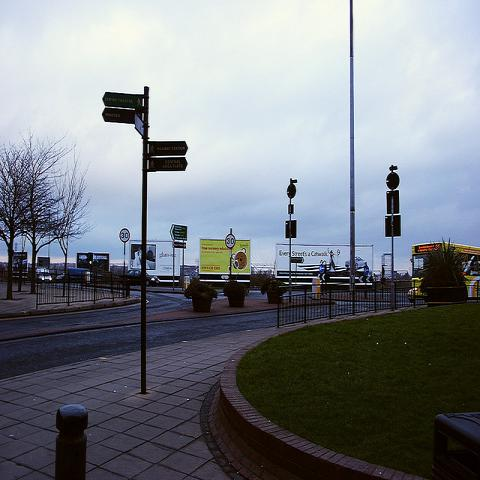bus: (410, 242, 480, 297)
car: (127, 268, 158, 287), (36, 268, 54, 282), (68, 267, 88, 278), (55, 272, 66, 283)
